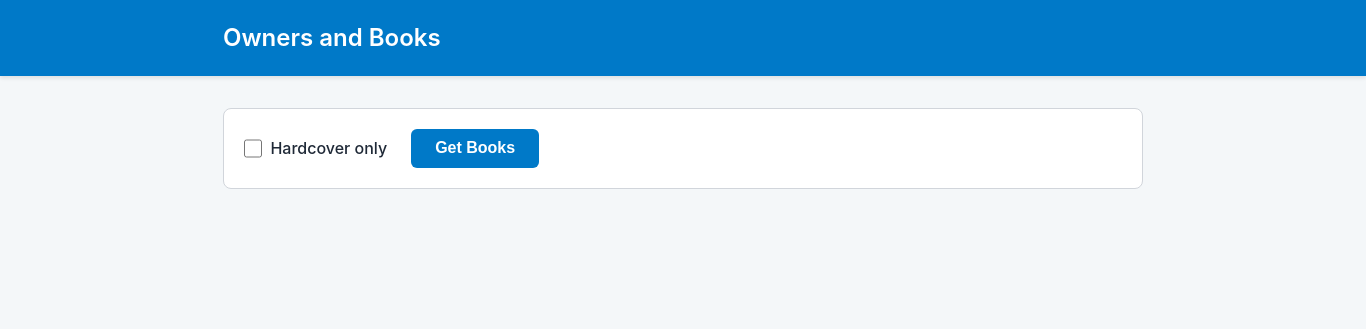
it: App › clears stale results and reports an error when a refresh fails
Click the button "Get Books" at (475, 148), box x1=411 y1=129 x2=539 y2=168
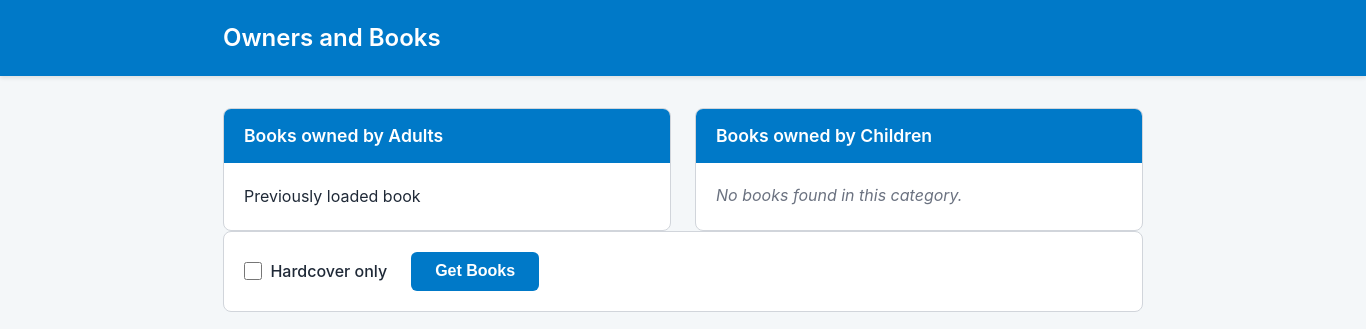
Now the list item "Previously loaded book" is shown, box x1=244 y1=186 x2=421 y2=206
Click the checkbox labelled "Hardcover only" at (253, 271), box x1=244 y1=262 x2=262 y2=280
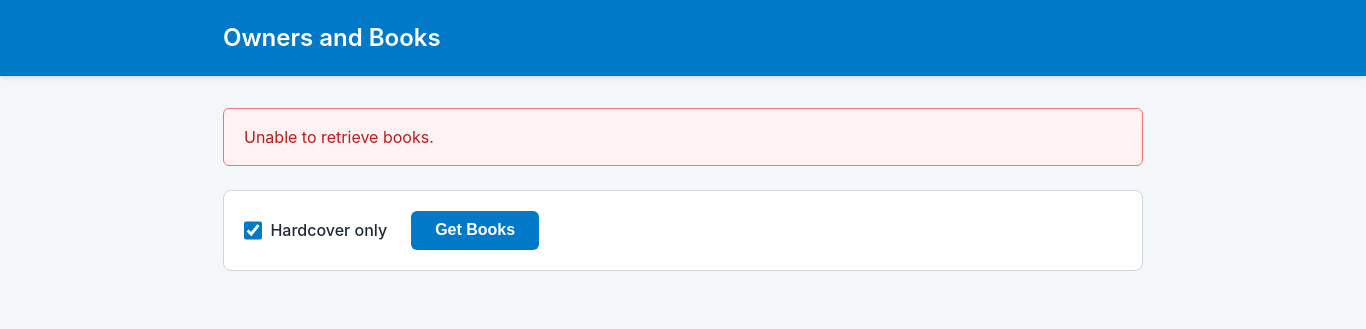
Now the list item "Previously loaded book" is gone
Now the message reads "Unable to retrieve books.", box x1=244 y1=127 x2=434 y2=147
